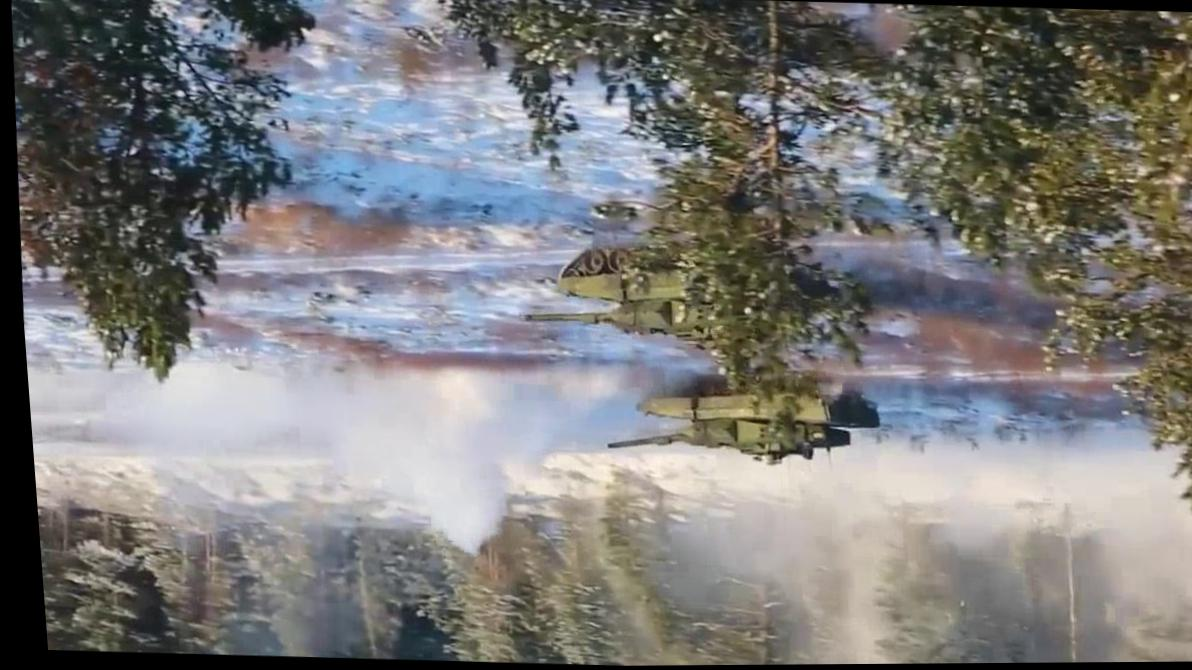tank: (599, 370, 885, 471), (516, 241, 784, 344)
